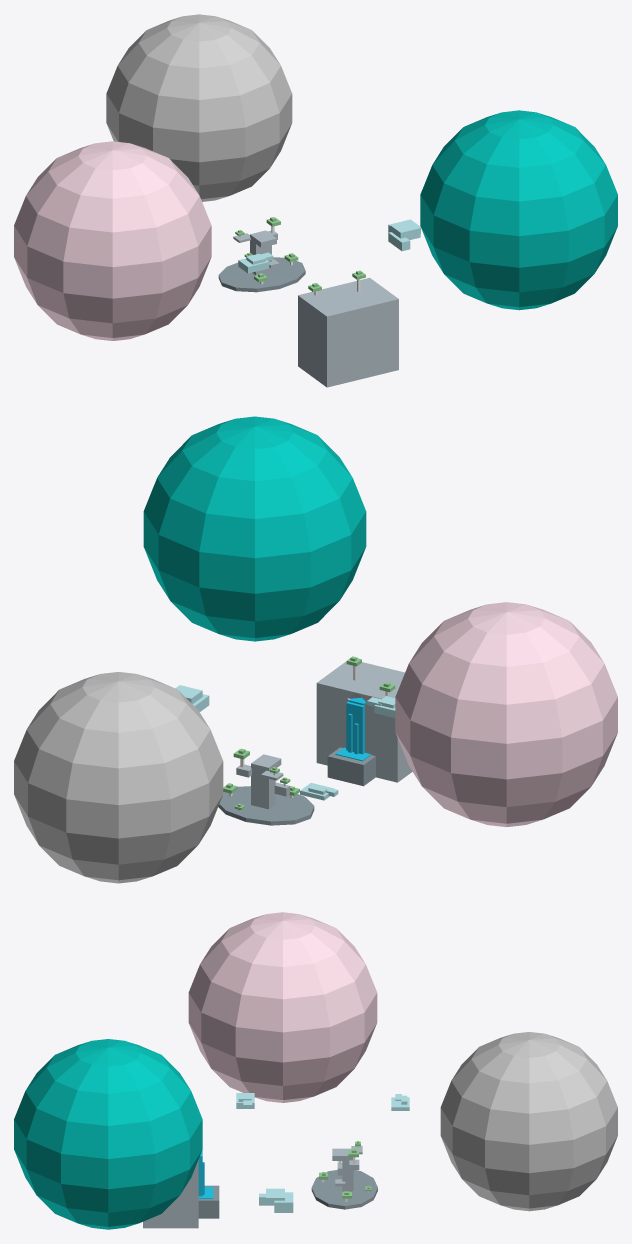
File: world.glb
3 views of the same model, one above another, from view 1: azimuth 30°, elevation 25°; view 2: azimuth 150°, elevation 25°; view 3: azimuth 270°, elevation 25° (orthographic). The views are drawn at different scales.
Visible parts, largest first — view 1: group861165969, group626916059, group476176202, group1674350872, group68513361, group233833903; view 2: group626916059, group861165969, group476176202, group1674350872, group68513361, group669773770, group233833903, group1907474022; view 3: group626916059, group861165969, group476176202, group68513361, group1674350872, group233833903, group669773770.
Boxes of the visible parts, <box> form: group861165969: <box>14,141,211,340</box>; group626916059: <box>420,110,617,310</box>; group476176202: <box>106,14,292,201</box>; group1674350872: <box>298,277,398,387</box>; group68513361: <box>218,257,305,292</box>; group233833903: <box>250,230,276,275</box>; group626916059: <box>143,416,366,641</box>; group861165969: <box>395,602,617,827</box>; group476176202: <box>14,672,223,883</box>; group1674350872: <box>316,661,412,782</box>; group68513361: <box>218,786,314,825</box>; group669773770: <box>327,747,375,786</box>; group233833903: <box>251,754,281,809</box>; group1907474022: <box>346,701,364,754</box>; group626916059: <box>14,1039,202,1229</box>; group861165969: <box>188,912,377,1102</box>; group476176202: <box>440,1032,617,1211</box>; group68513361: <box>311,1170,377,1209</box>; group1674350872: <box>143,1160,198,1228</box>; group233833903: <box>332,1148,353,1191</box>; group669773770: <box>198,1185,219,1218</box>.
Size of the model in its own units: 7.02 by 3.3 by 7.91.
